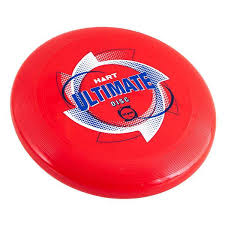disc: (10, 27, 218, 202)
